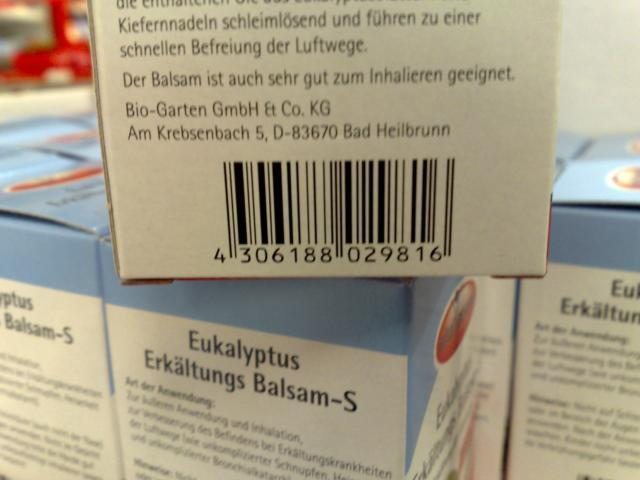Barcode: (206, 149, 468, 271)
